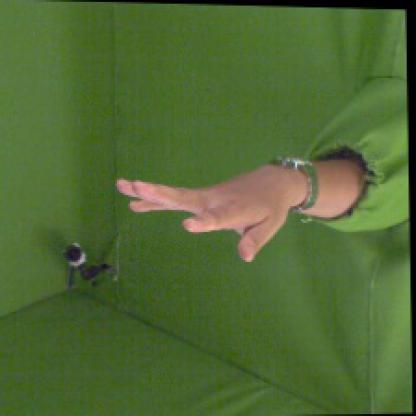Hand: (115, 165, 306, 263)
